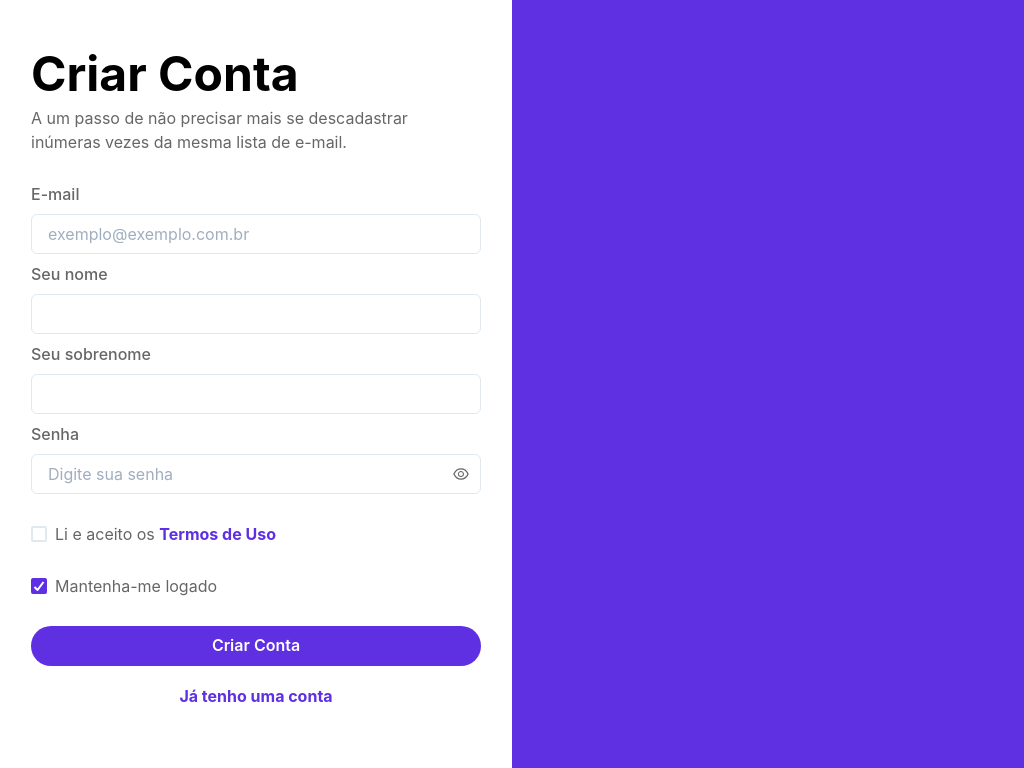
Test case: Signup › should click on the link to login move to the login page
The image size is (1024, 768).
Click the link with test id "login-link". click: (256, 696)
box: [179, 686, 333, 706]
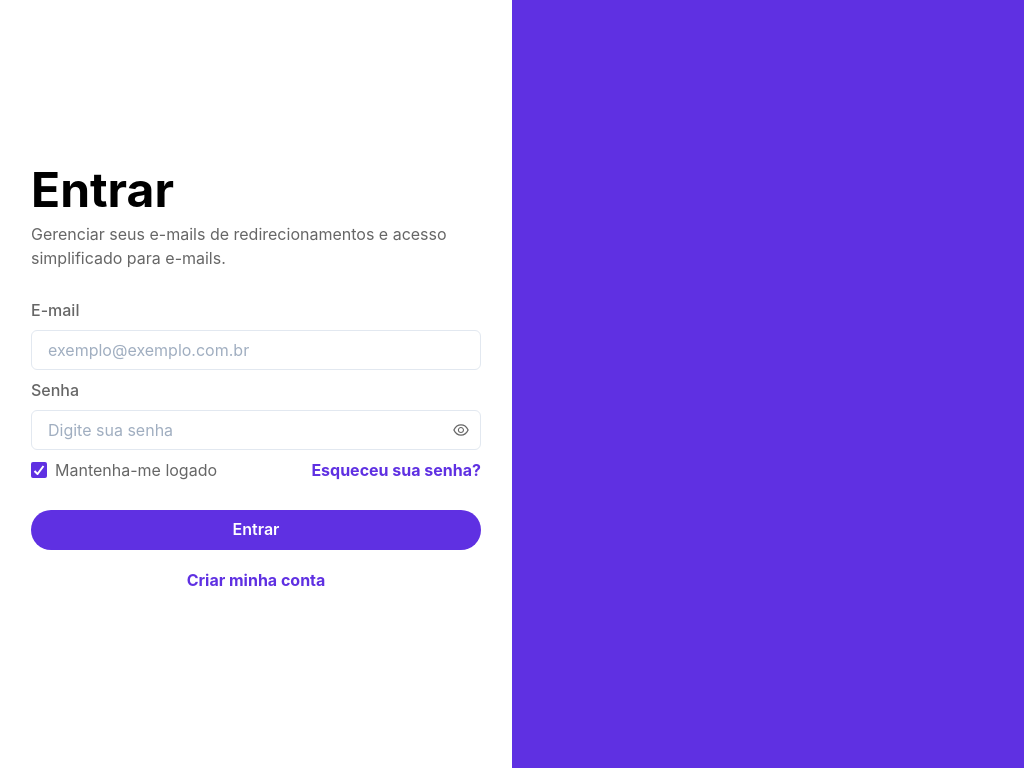
Expected: the element with test id "login-box" is shown, [31, 166, 481, 602]
Expected: the element with test id "signup-box" is gone
